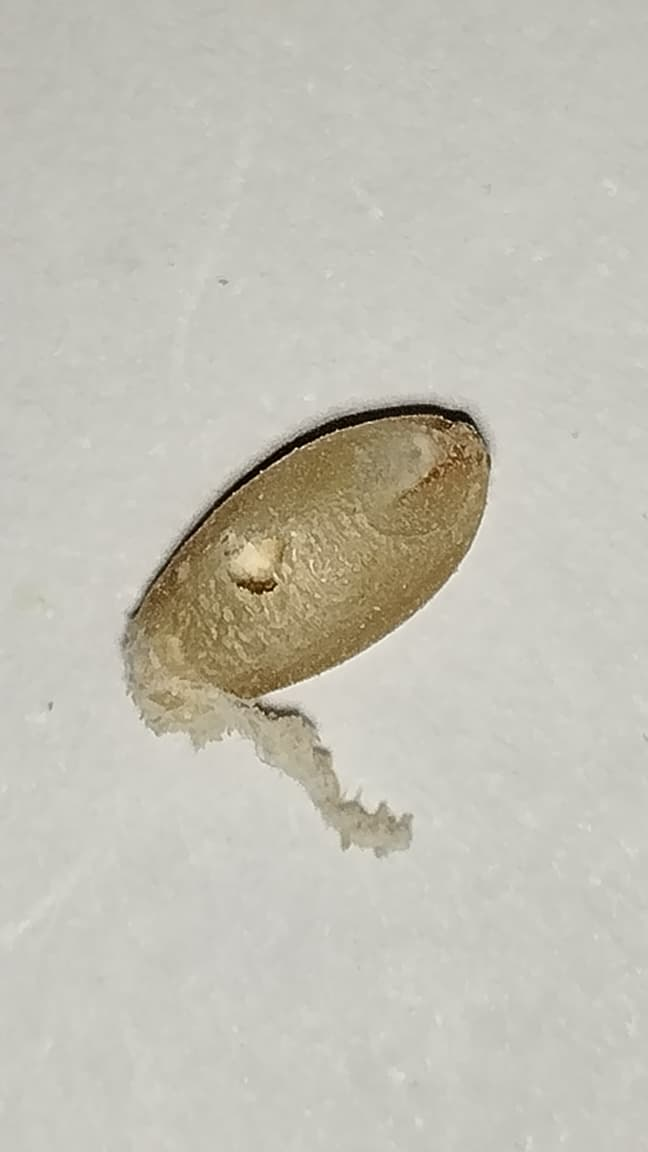damage: (124, 416, 489, 854)
insectdamage: (353, 431, 484, 537), (178, 510, 314, 612)
molddamage: (123, 619, 411, 856)
